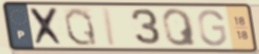3: (129, 8, 163, 47)
G: (196, 8, 229, 48)
I: (101, 6, 119, 48)
Q: (62, 6, 100, 48), (160, 8, 199, 48)
X: (27, 6, 67, 47)
